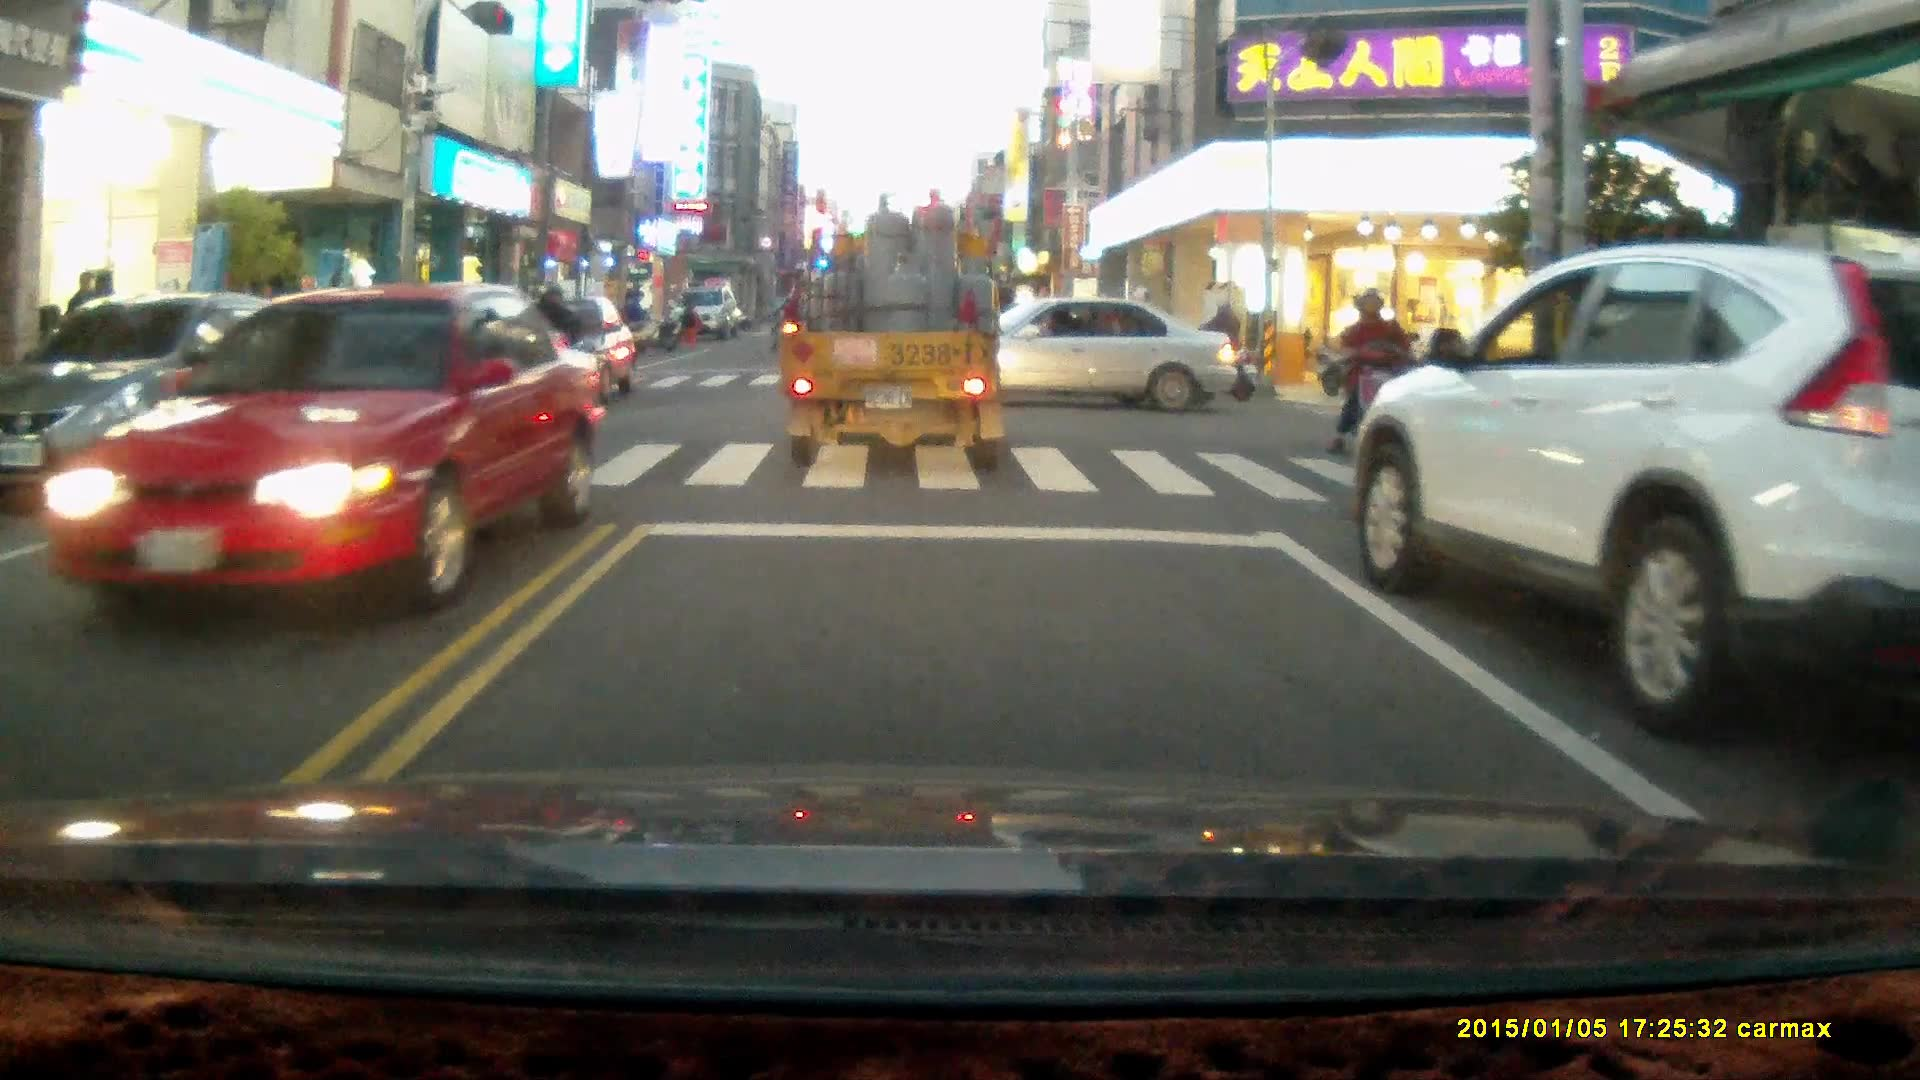rider: (1324, 281, 1422, 470), (1165, 294, 1258, 400)
vehicle: (1344, 238, 1920, 747), (47, 276, 599, 617), (781, 191, 1015, 466), (907, 295, 1240, 413), (670, 284, 738, 336)
